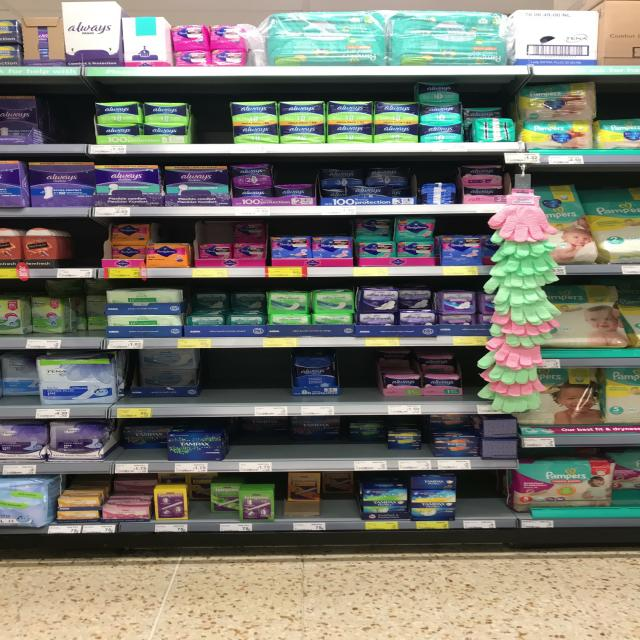void: (48, 75, 91, 154), (189, 74, 229, 154), (202, 347, 245, 416), (248, 348, 290, 414), (461, 473, 510, 529), (60, 217, 99, 278), (342, 348, 378, 414)
